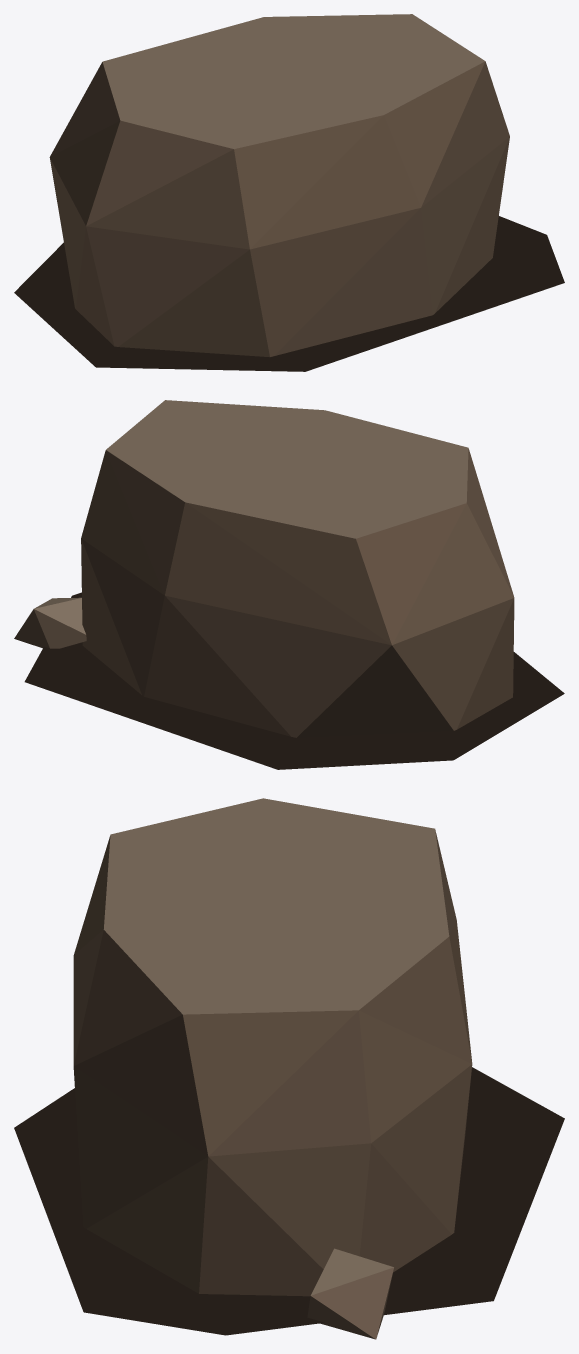
Rendered from tl_env_shrine_seat_b_v01.glb.
3 views of the same model, one above another, from view 1: azimuth 30°, elevation 25°; view 2: azimuth 150°, elevation 25°; view 3: azimuth 270°, elevation 25° (orthographic). The views are drawn at different scales.
Visible parts, largest first — view 1: tl_env_shrine_seat_b_v01; view 2: tl_env_shrine_seat_b_v01; view 3: tl_env_shrine_seat_b_v01.
Boxes of the visible parts, left/top/right/bottom form: tl_env_shrine_seat_b_v01: left=14, top=14, right=564, bottom=371; tl_env_shrine_seat_b_v01: left=14, top=400, right=564, bottom=769; tl_env_shrine_seat_b_v01: left=14, top=798, right=564, bottom=1339.
Size of the model in its own units: 1.15 by 0.48 by 0.8743.
